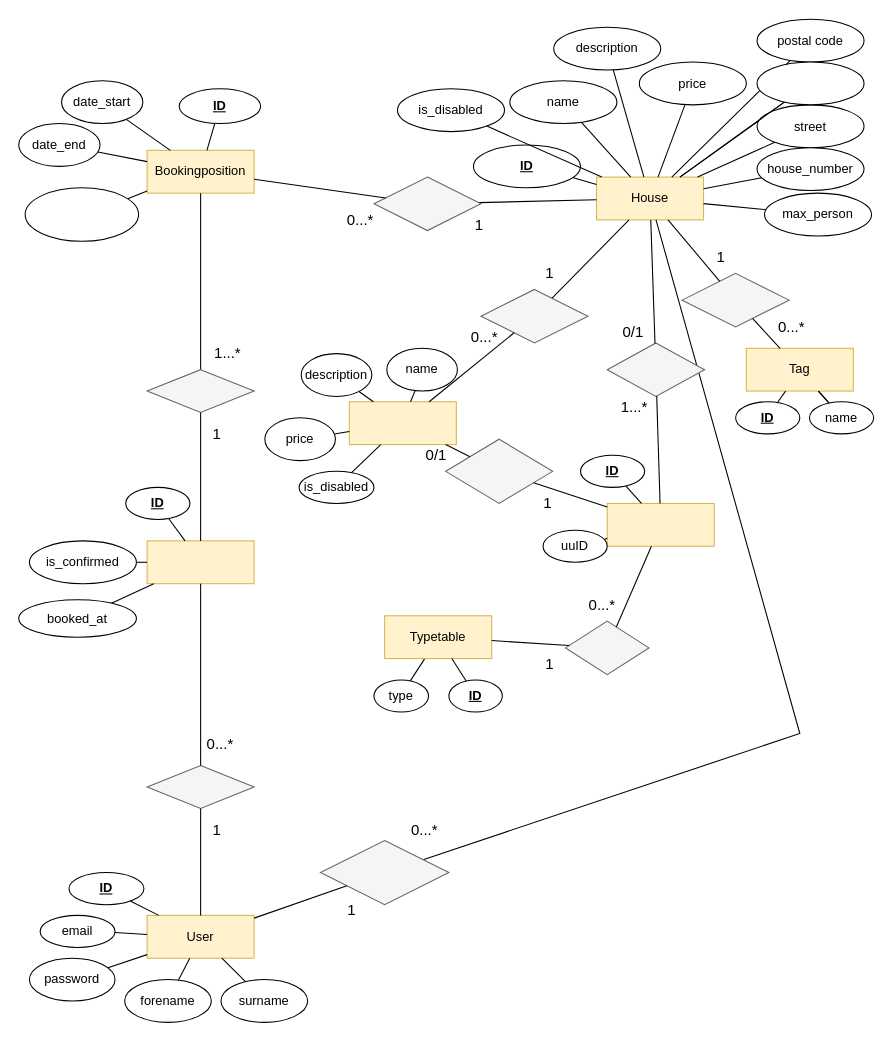
The diagram is 892 pixels wide and 1041 high, and some of its shapes have lost their labels. Here are the shapes that lost their labels. From the top down, the box of each, then its label:
(756, 61, 864, 105): city
(24, 187, 139, 241): price_detail_list
(373, 176, 481, 231): assigned to
(480, 288, 588, 343): offers
(681, 272, 789, 327): described with
(606, 342, 705, 396): illustrated by
(146, 369, 254, 412): consists of
(348, 401, 456, 445): Option
(445, 438, 553, 503): related image
(606, 502, 714, 546): Image
(146, 540, 254, 584): Booking
(564, 620, 649, 675): is of type
(146, 765, 254, 808): booked
(319, 839, 449, 905): owns
